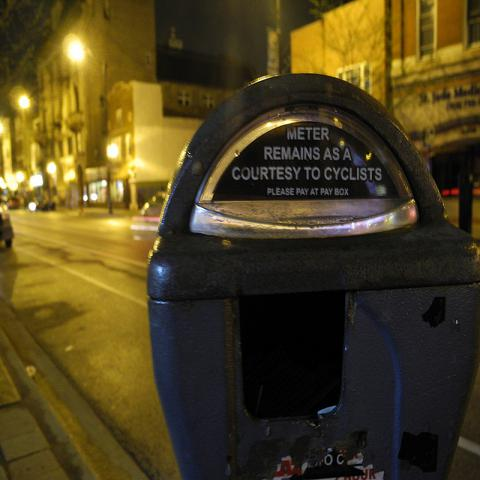car: (142, 193, 167, 217), (0, 205, 13, 249), (31, 197, 55, 211), (6, 199, 20, 208)
